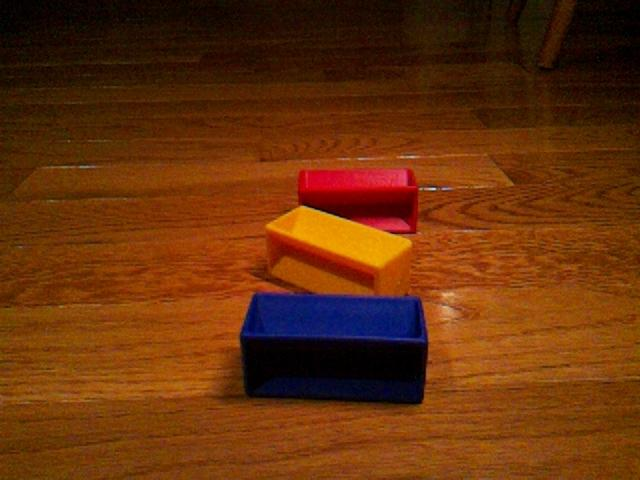blue: (239, 290, 430, 405)
red: (297, 167, 420, 234)
yellow: (264, 204, 414, 297)
